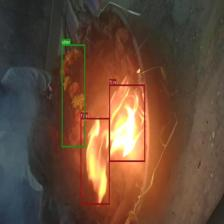fire: (109, 85, 145, 162), (80, 118, 110, 204)
